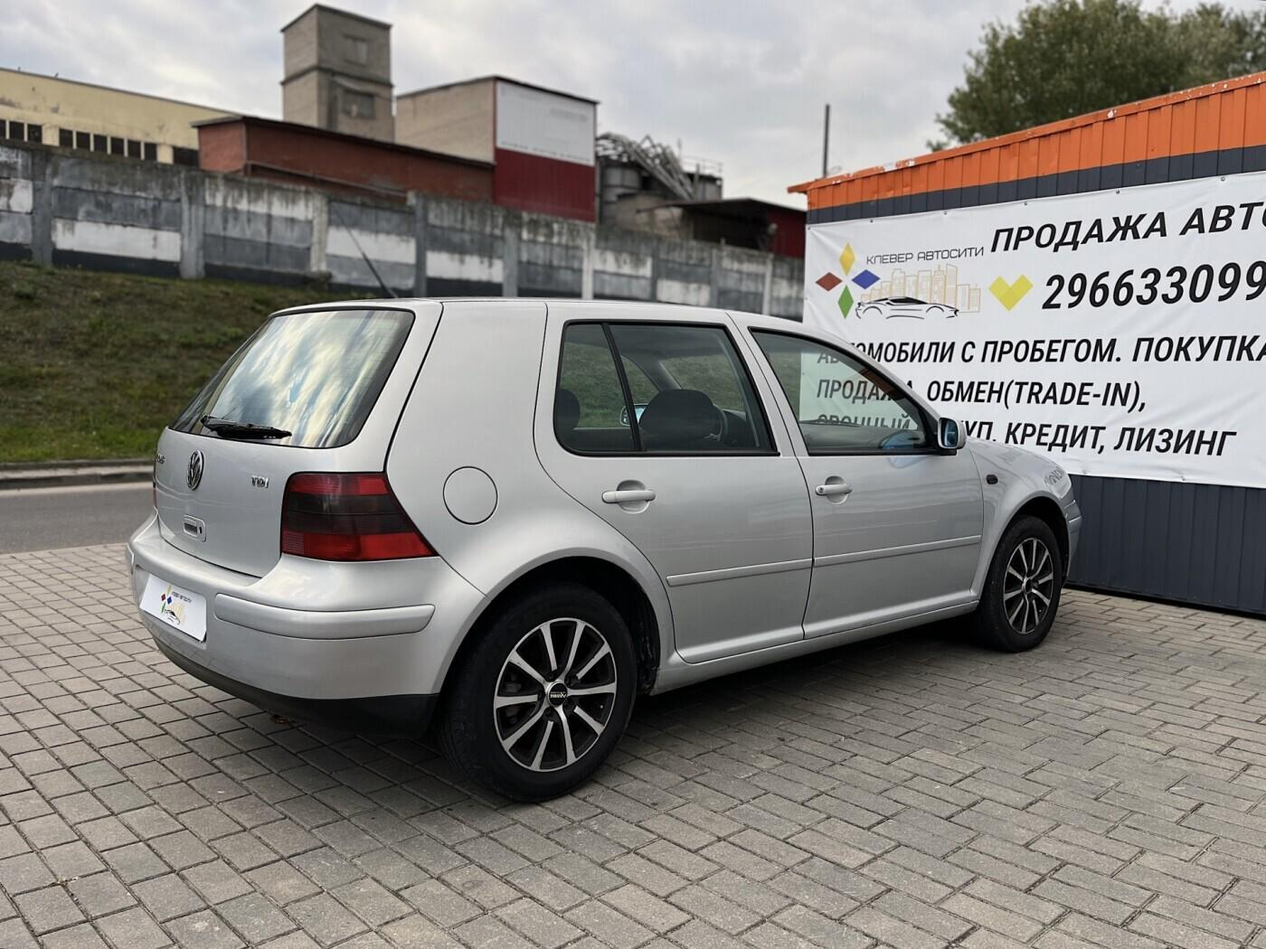Golf_1997-2006: (123, 290, 1079, 786)
